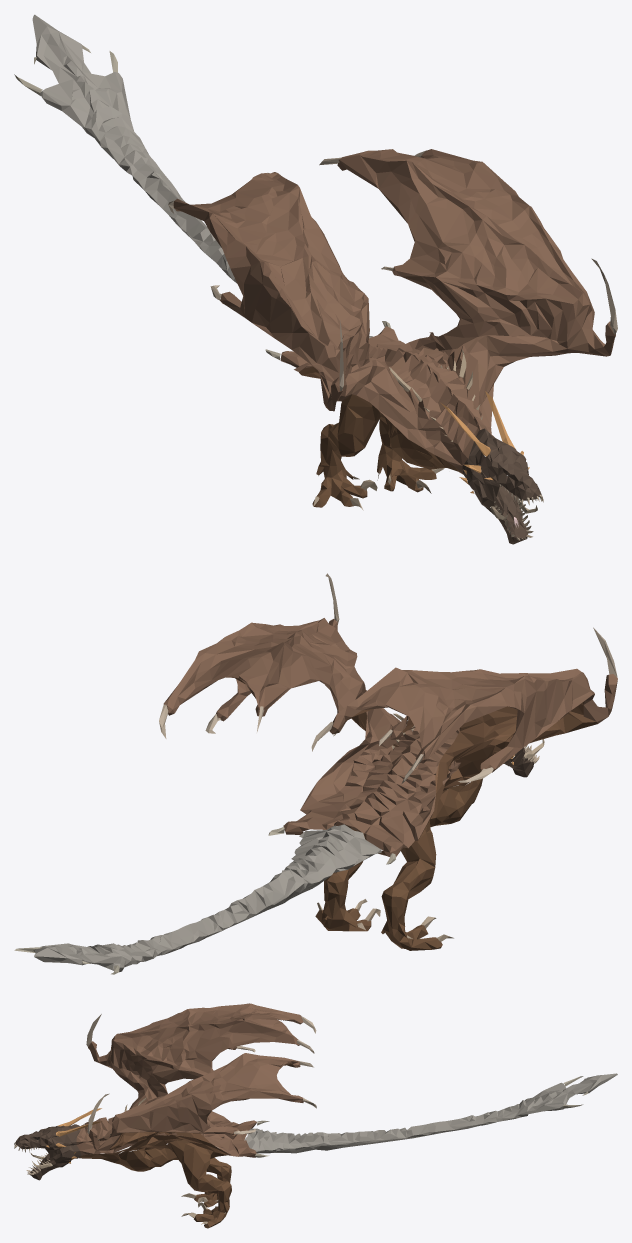
Rendered from war-drake.glb.
3 renders of one model, top to bottom at view 1: azimuth 30°, elevation 25°; view 2: azimuth 150°, elevation 25°; view 3: azimuth 270°, elevation 25°, orthographic. The views are drawn at different scales.
Parts seen in each view (by area): view 1: _2, _1, _0, __1, __7, _5; view 2: _2, _1, _0, _3, __7; view 3: _2, _1, _0, __1, _3, __7, _5.
Boxes of the visible parts, x1,y1,x2,y2 form: _2: [173, 149, 615, 473]; _1: [32, 14, 372, 338]; _0: [312, 394, 463, 507]; __1: [462, 428, 541, 544]; __7: [168, 150, 617, 390]; _5: [440, 391, 529, 493]; _2: [163, 618, 617, 856]; _1: [34, 824, 381, 972]; _0: [315, 778, 482, 950]; _3: [233, 677, 597, 855]; __7: [159, 573, 617, 783]; _2: [76, 1003, 303, 1157]; _1: [244, 1073, 617, 1153]; _0: [79, 1140, 231, 1228]; __1: [16, 1124, 81, 1180]; _3: [87, 1019, 291, 1155]; __7: [86, 1014, 316, 1134]; _5: [46, 1108, 102, 1163].
Size of the model in its own units: 116 by 112 by 342.
